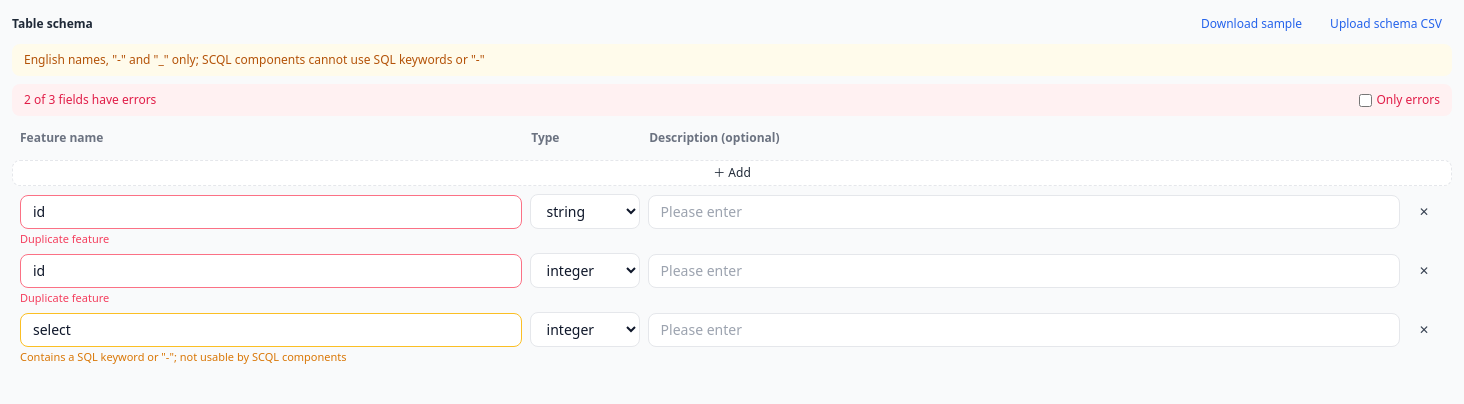
SchemaEditor › shows duplicate / pattern errors and SCQL warnings, and adds rows
The image size is (1464, 404).
Expected: the message "2 of 3 fields have errors Only errors" is shown, [12,84,1452,116]
Step 1. Replace the text in the field named "Feature name 2" with "id2" → (271,270), box [20,254,522,288]
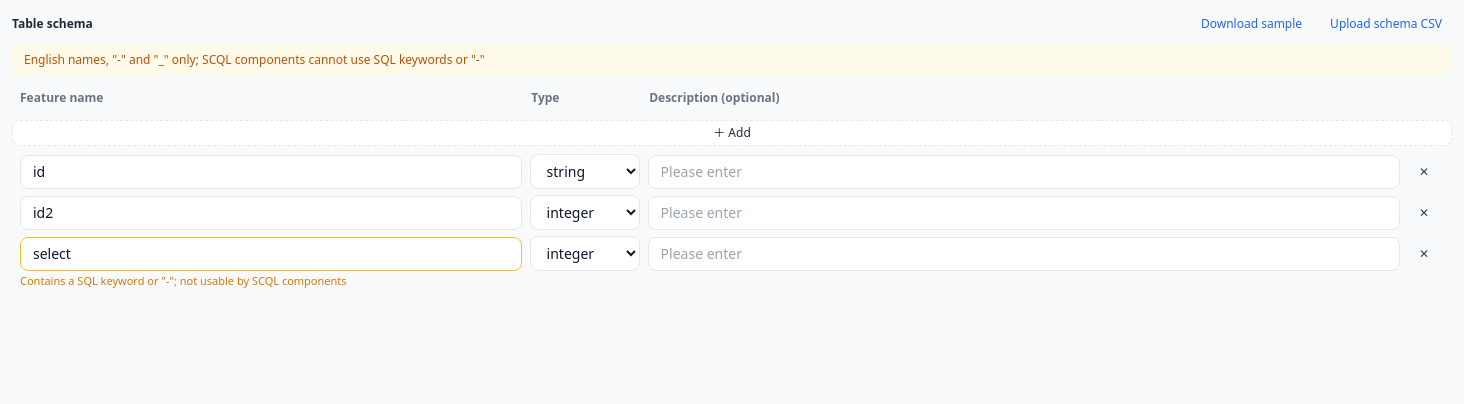
Expected: the message "2 of 3 fields have errors Only errors" is gone
Step 2. Click the button "＋ Add" → (732,133), box [12,120,1452,146]
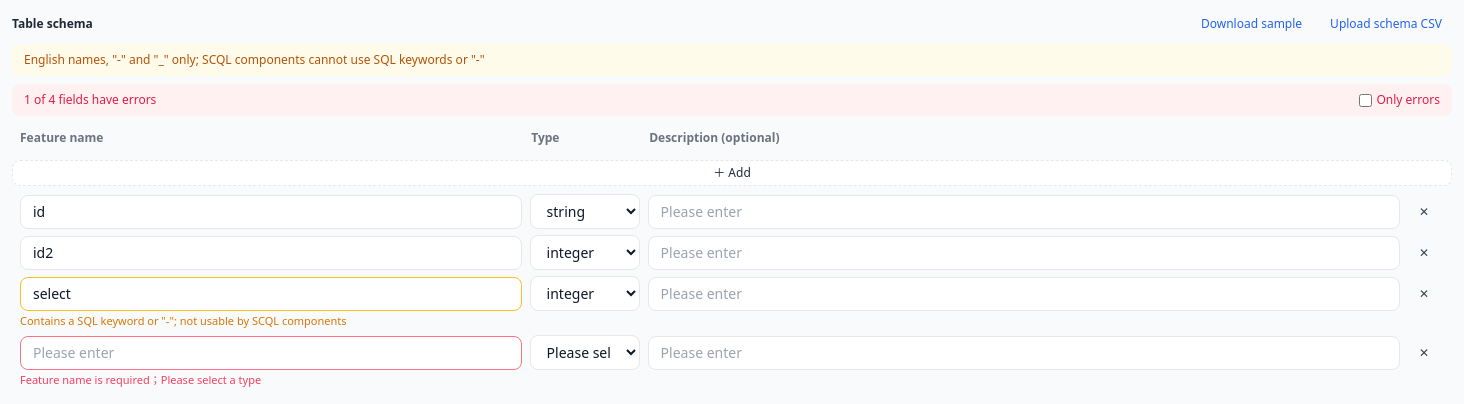
Expected: the number of fields is 8
